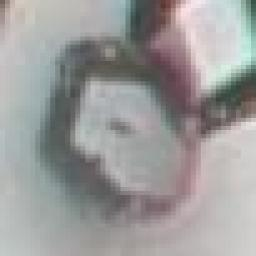crystals: (34, 28, 202, 240)
